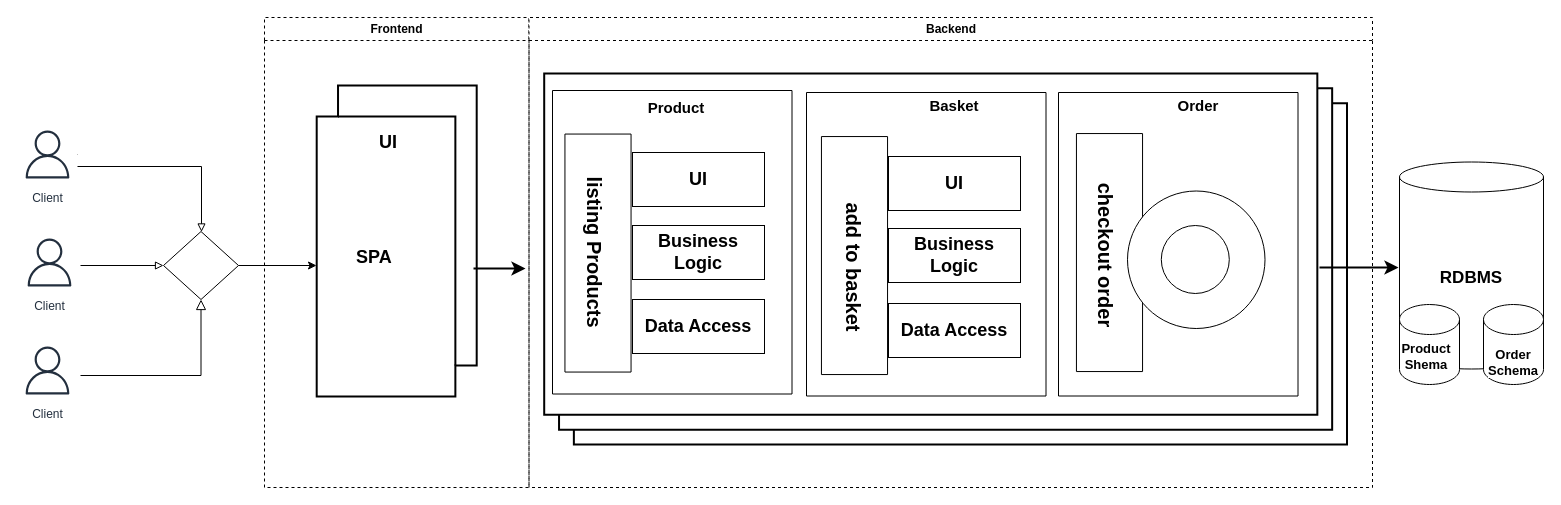
The diagram is 1561 pixels wide and 505 high, and some of its shapes have lost their labels. Here are the shapes that lost their labels. From the top down, the centre of each, then its label:
point (200, 265): Load Balance
point (1194, 259): Clean Architecture
